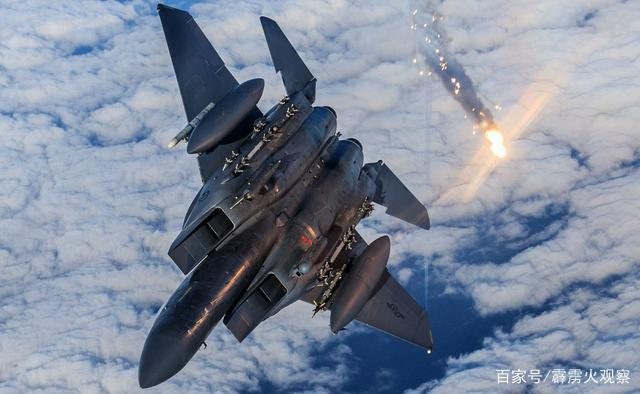airplane: (126, 4, 438, 390)
